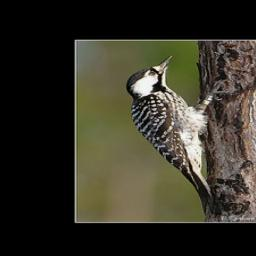Woodpecker: (125, 55, 235, 217)
